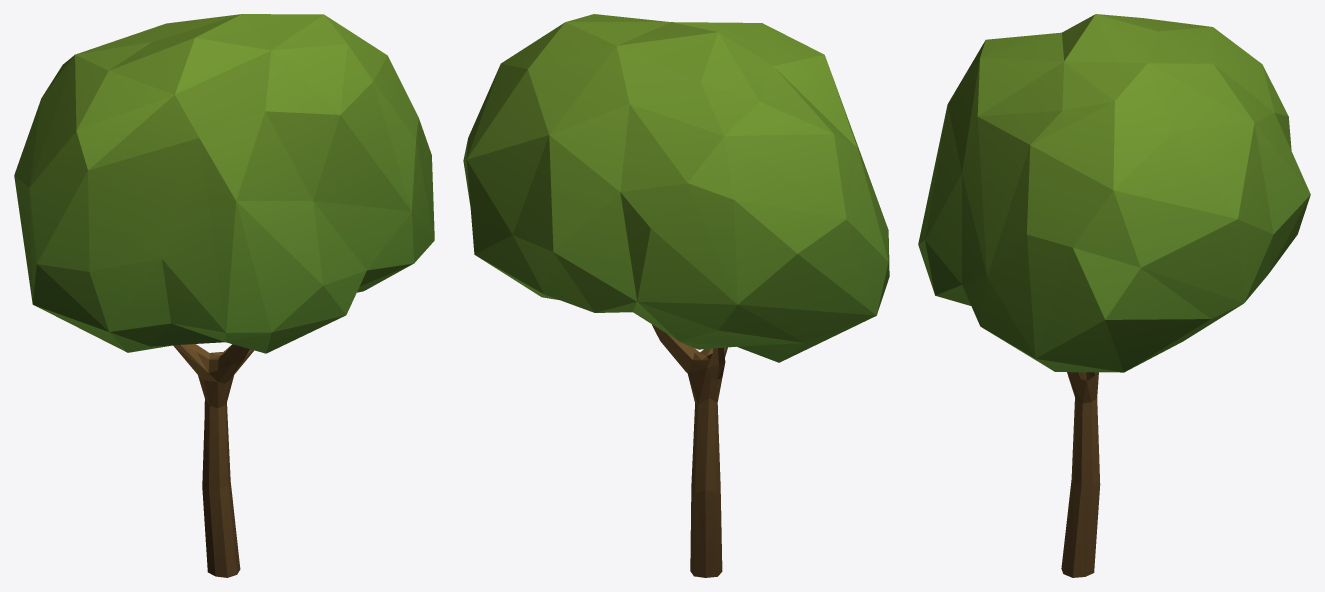
Rendered from Tree_02.glb.
3 views of the same model, side by side, from view 1: azimuth 30°, elevation 25°; view 2: azimuth 150°, elevation 25°; view 3: azimuth 270°, elevation 25° (orthographic). The views are drawn at different scales.
Visible parts, largest first — view 1: Tree_02; view 2: Tree_02; view 3: Tree_02.
Boxes of the visible parts, x1,y1,x2,y2 form: Tree_02: [14, 14, 434, 577]; Tree_02: [463, 14, 889, 577]; Tree_02: [918, 14, 1310, 577].
Bounding box in the file's own units: 3.99 × 5.03 × 3.28.
Materials: 1 (1 with a texture image).
